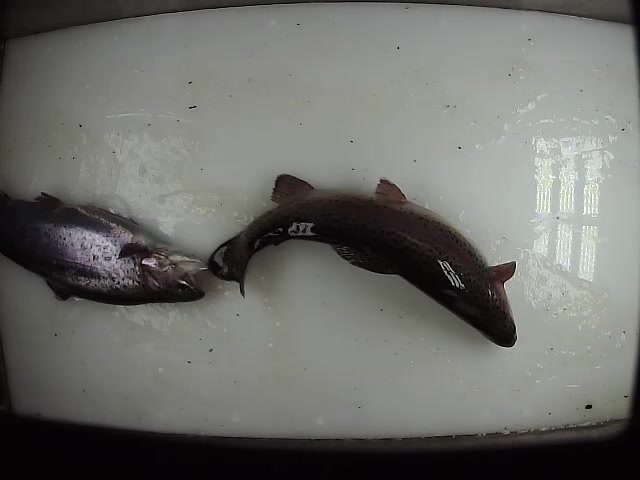fish: (207, 171, 519, 351), (1, 187, 207, 310)
